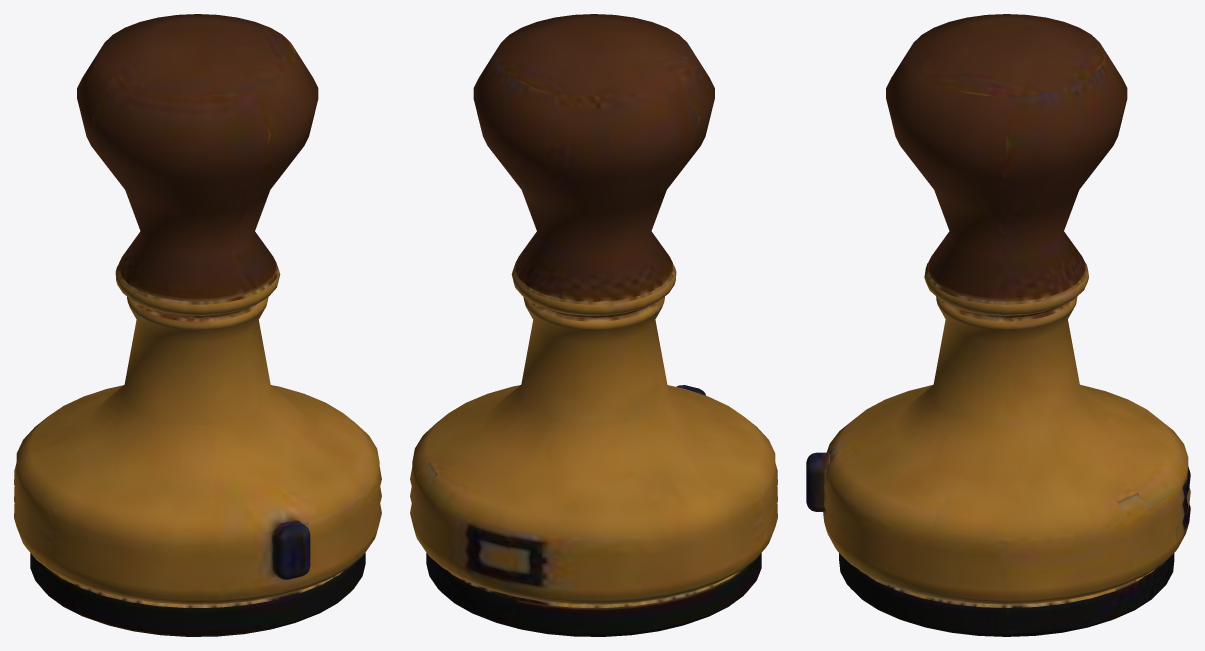
Rendered from registrar_stamp.glb.
3 renders of one model, left to right at view 1: azimuth 30°, elevation 25°; view 2: azimuth 150°, elevation 25°; view 3: azimuth 270°, elevation 25°, orthographic.
Visible parts, largest first — view 1: registrar_stamp; view 2: registrar_stamp; view 3: registrar_stamp.
Boxes of the visible parts, left/top/right/bottom form: registrar_stamp: left=14, top=14, right=381, bottom=636; registrar_stamp: left=410, top=14, right=777, bottom=636; registrar_stamp: left=806, top=14, right=1190, bottom=636.
Bounding box in the file's own units: 0.0788 × 0.127 × 0.0825.
1 material, 1 textured.
